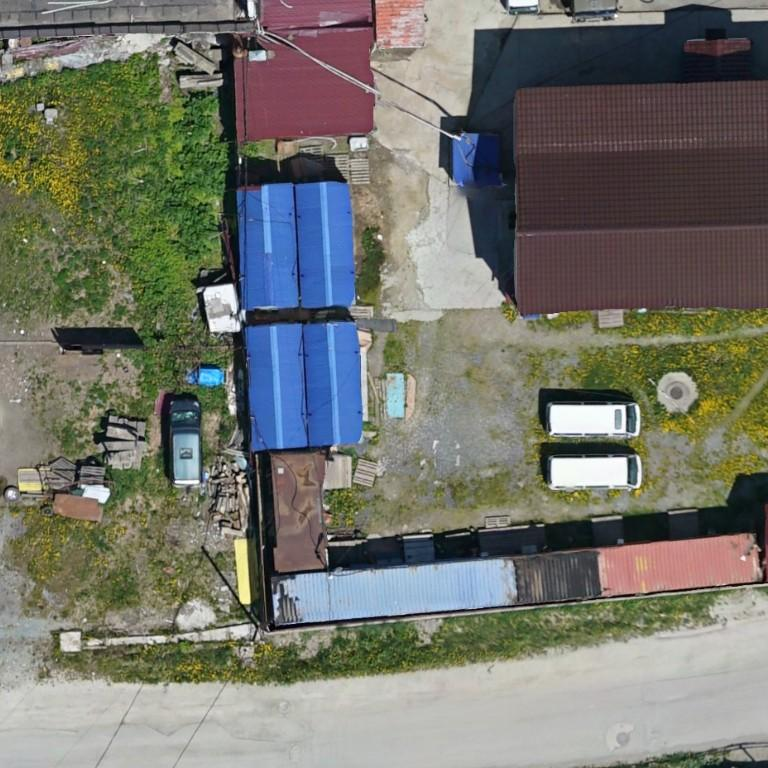hogweed: (162, 99, 231, 261)
